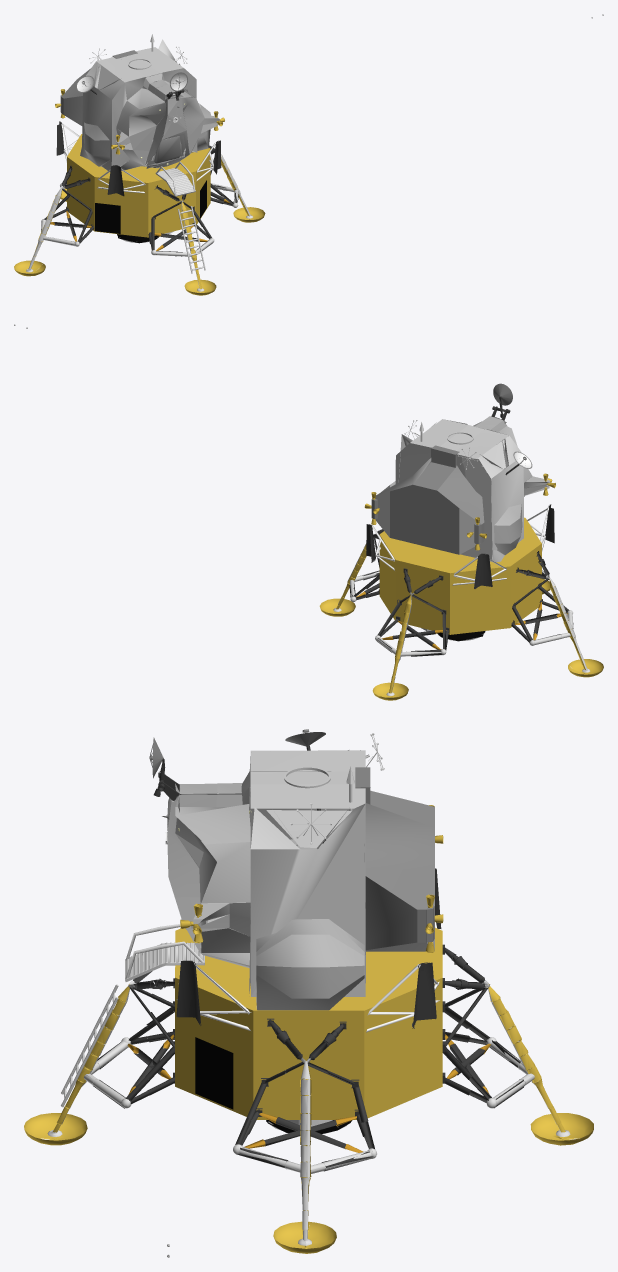
The picture shows the model from 3 angles, top to bottom: view 1: azimuth 30°, elevation 25°; view 2: azimuth 150°, elevation 25°; view 3: azimuth 270°, elevation 25°; orthographic projection. The views are drawn at different scales.
Parts seen in each view (by area): view 1: Object_6, Object_20, Object_10, Object_16, Object_9, Object_12, Object_21, Object_13, Object_18, Object_4, Object_7; view 2: Object_6, Object_9, Object_10, Object_16, Object_20, Object_12, Object_21, Object_7, Object_18, Object_13; view 3: Object_6, Object_10, Object_16, Object_20, Object_9, Object_21, Object_12, Object_13, Object_7, Object_3, Object_18, Object_19.
Boxes of the visible parts, x1,y1,x2,y2 form: Object_6: (14, 89, 265, 295); Object_20: (111, 57, 219, 170); Object_10: (82, 39, 217, 170); Object_16: (41, 89, 238, 256); Object_9: (60, 50, 187, 242); Object_12: (41, 42, 234, 273); Object_21: (80, 103, 210, 166); Object_13: (26, 154, 252, 291); Object_18: (61, 55, 215, 193); Object_4: (95, 203, 120, 233); Object_7: (31, 111, 249, 288); Object_6: (319, 503, 603, 700); Object_9: (371, 383, 532, 640); Object_10: (398, 419, 548, 561); Object_16: (349, 396, 573, 656); Object_20: (395, 416, 550, 496); Object_12: (350, 420, 570, 654); Object_21: (365, 481, 522, 642); Object_7: (336, 473, 585, 693); Object_18: (372, 430, 548, 585); Object_13: (333, 533, 590, 695); Object_6: (24, 805, 593, 1253); Object_10: (176, 750, 365, 996); Object_16: (93, 745, 523, 1171); Object_20: (167, 756, 365, 993); Object_9: (149, 729, 434, 1133); Object_21: (146, 839, 469, 1137); Object_12: (61, 733, 534, 1173); Object_13: (47, 980, 570, 1245); Object_7: (56, 903, 565, 1238); Object_3: (195, 1037, 233, 1109); Object_18: (165, 752, 439, 1032); Object_19: (127, 1034, 490, 1152).
Size of the model in its own units: 1441 by 502 by 643.
